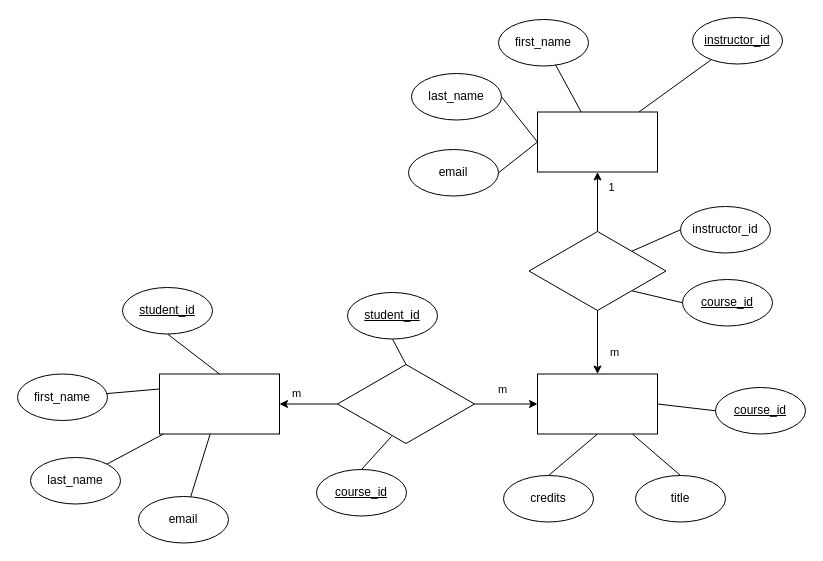
Image size: 823x561. Some labels were removed from this diagram. The centre of each missing label's shape, as x and y in pixels:
belegt: the point at 405,404
Course: the point at 597,403
führt: the point at 597,270
Instructor: the point at 597,141
Student: the point at 219,403
